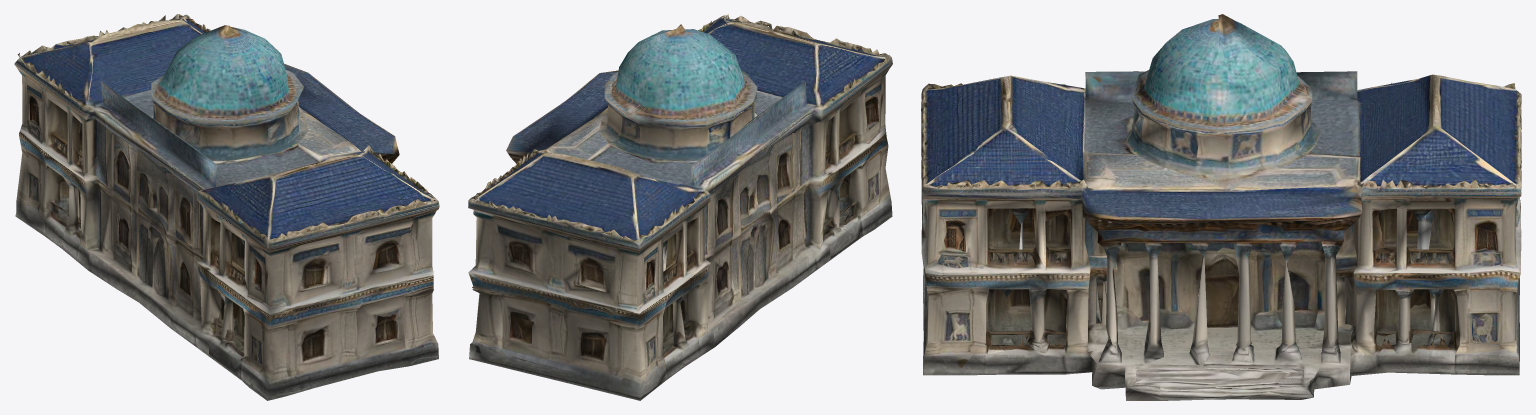
Rendered from house_noble_1.glb.
3 views of the same model, side by side, from view 1: azimuth 30°, elevation 25°; view 2: azimuth 150°, elevation 25°; view 3: azimuth 270°, elevation 25° (orthographic). The views are drawn at different scales.
Visible parts, largest first — view 1: tripo_node_bf53fd1a-f9f2-4a5b-9f5e-ce46a4f59928; view 2: tripo_node_bf53fd1a-f9f2-4a5b-9f5e-ce46a4f59928; view 3: tripo_node_bf53fd1a-f9f2-4a5b-9f5e-ce46a4f59928.
Boxes of the visible parts, <box> form: tripo_node_bf53fd1a-f9f2-4a5b-9f5e-ce46a4f59928: <box>14,14,439,400</box>; tripo_node_bf53fd1a-f9f2-4a5b-9f5e-ce46a4f59928: <box>468,14,892,400</box>; tripo_node_bf53fd1a-f9f2-4a5b-9f5e-ce46a4f59928: <box>921,14,1521,400</box>.
Size of the model in its own units: 0.4818 by 0.5587 by 0.9783.
Materials: 1 (1 with a texture image).
